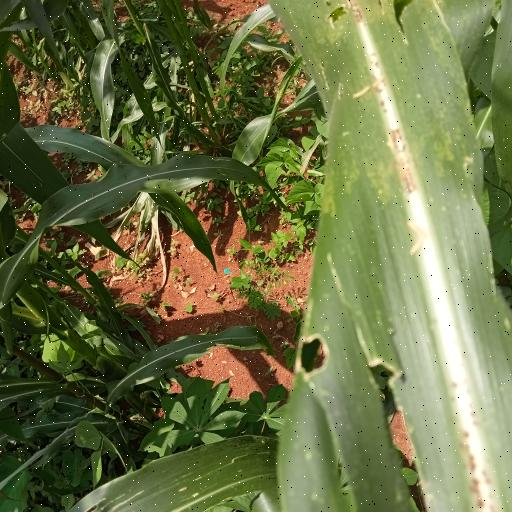Corn_Brown_Spots: (276, 3, 511, 512)
